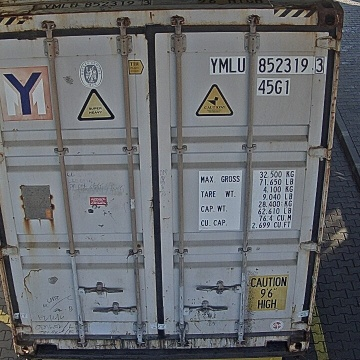serial_id: (209, 57, 324, 73)
